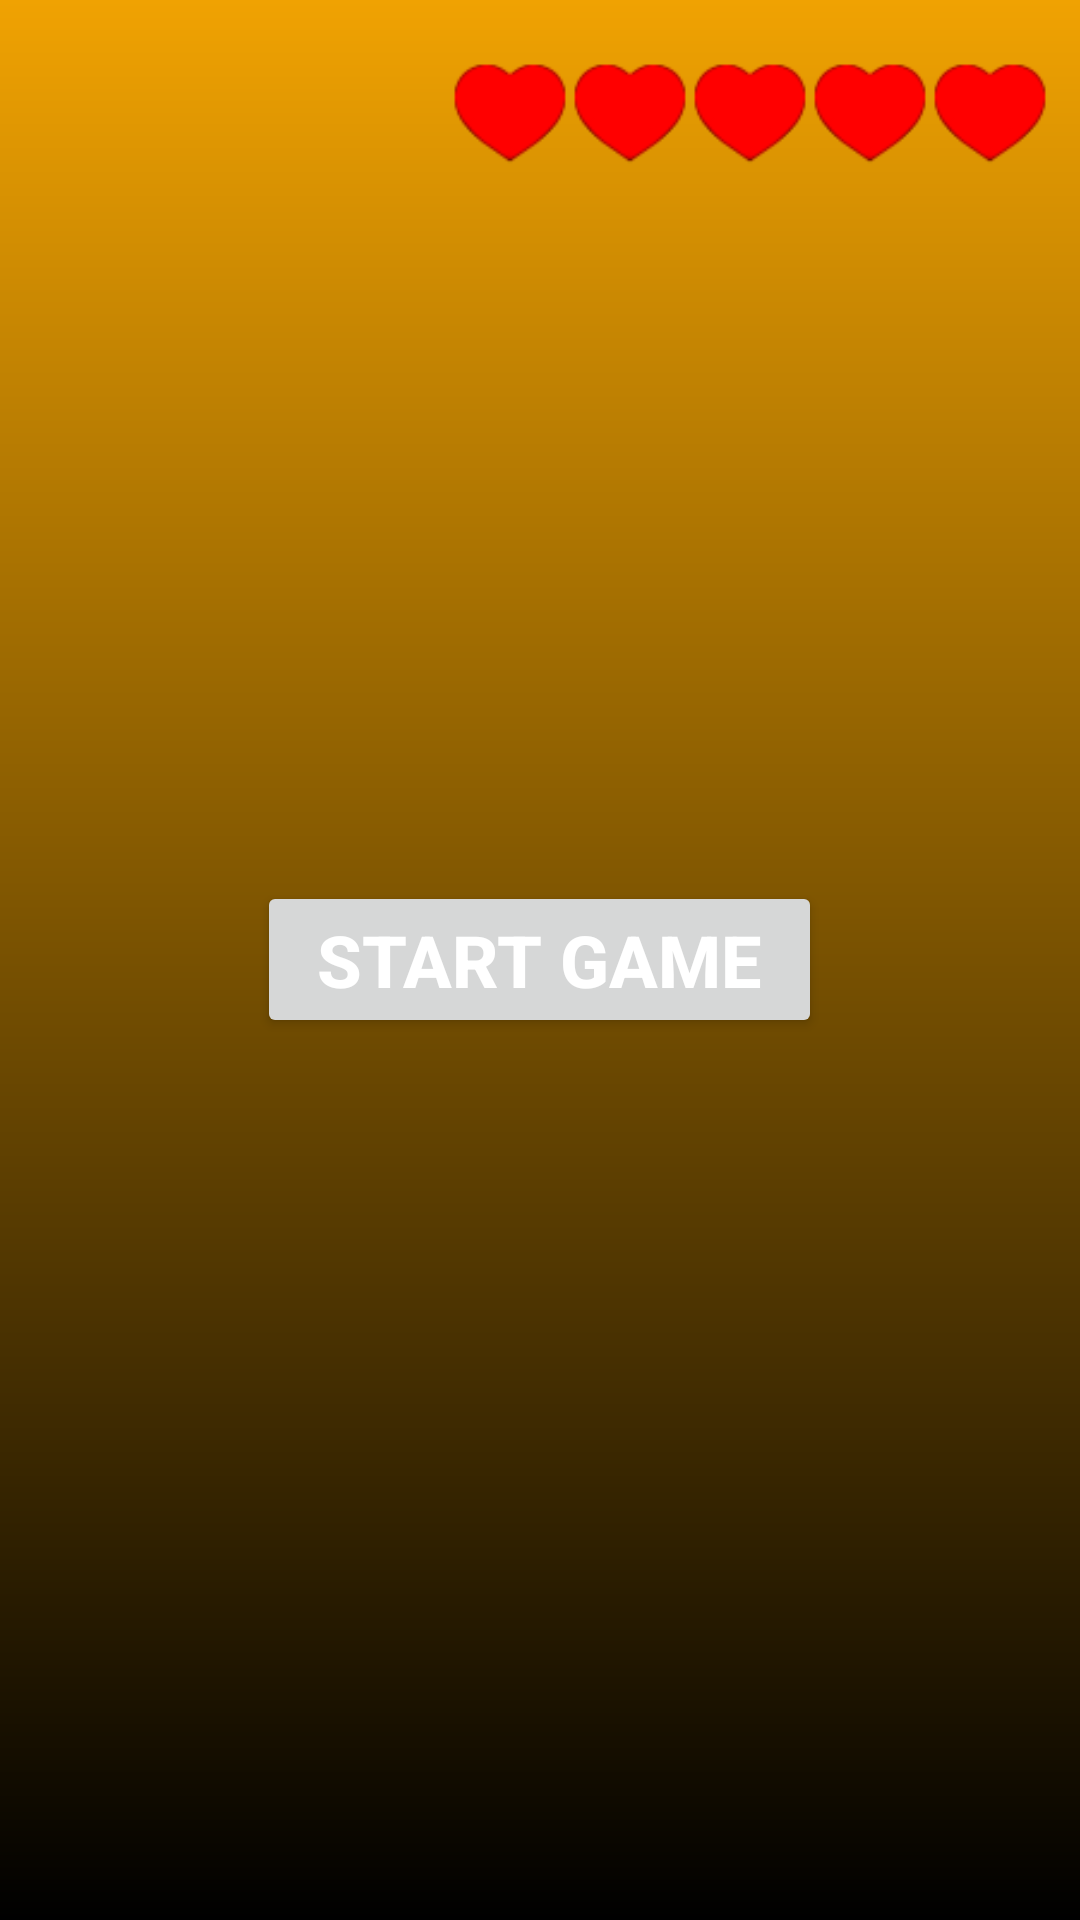

Icons on this 1080px x 1920px Android screen, each with the point to tap as [x,y]:
heart: [510,113], [630,113], [750,113], [870,113], [990,113]
